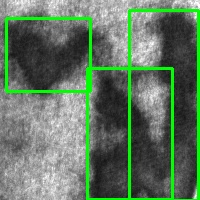patches: (129, 10, 198, 200), (87, 68, 172, 199), (6, 18, 90, 91)
